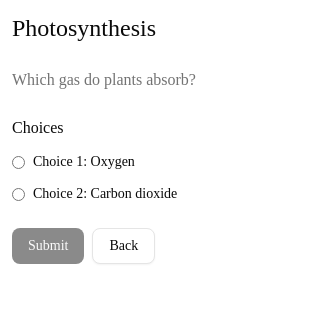
Test: Phase 4: MCQ UI › submits a preview attempt and shows correctness from the API
This screenshot has width=332, height=325.
Check: the text "Which gas do plants absorb?" is shown, box x1=12 y1=71 x2=196 y2=88
Click the radio button labelled "Choice 2: Carbon dioxide": (18,194) x1=12 y1=188 x2=25 y2=200
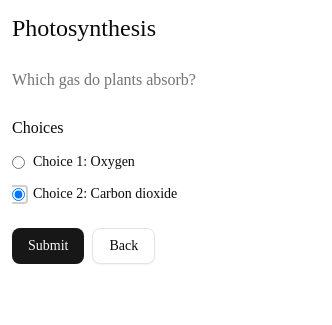
Click the button "Submit": (48,246) x1=12 y1=228 x2=84 y2=264
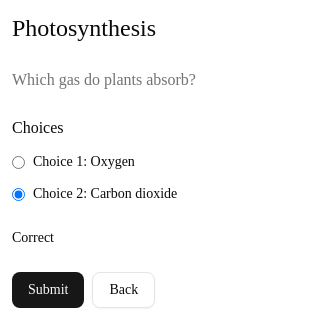
Check: the text "Correct" is shown, box x1=12 y1=230 x2=54 y2=245
